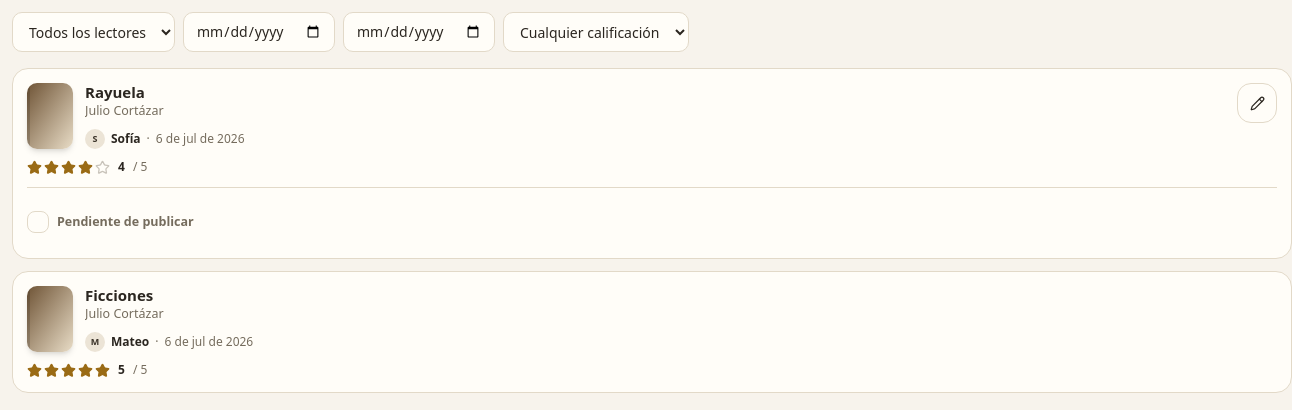
Scenario: ReadingHistory › filters by reader
The image size is (1292, 410).
Check: the text "Rayuela" is shown, box x1=85 y1=82 x2=145 y2=102
Select "Mateo" in the dropdown named "Filtrar por lector" at (94, 32), box x1=12 y1=12 x2=175 y2=52
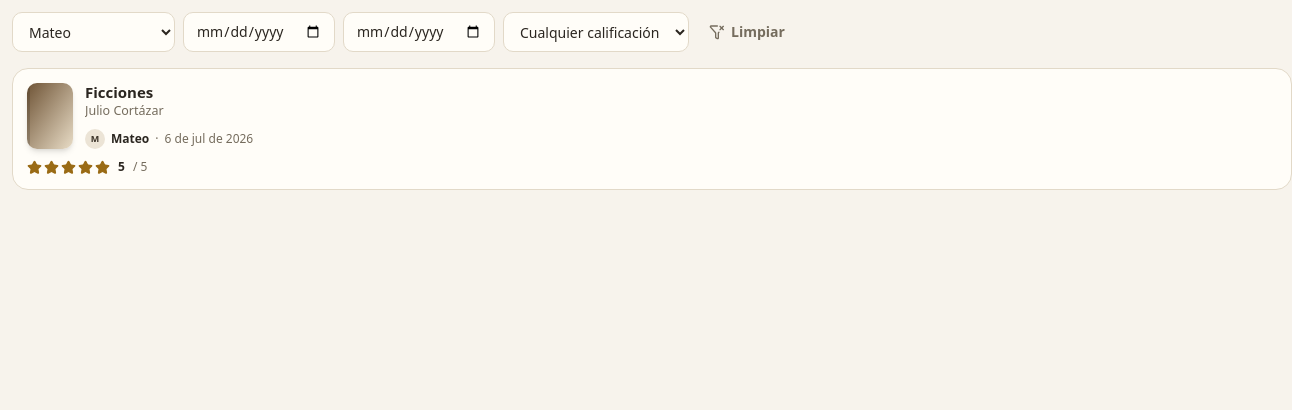
Check: the text "Ficciones" is shown, box x1=85 y1=82 x2=153 y2=102
Check: the text "Rayuela" is gone
